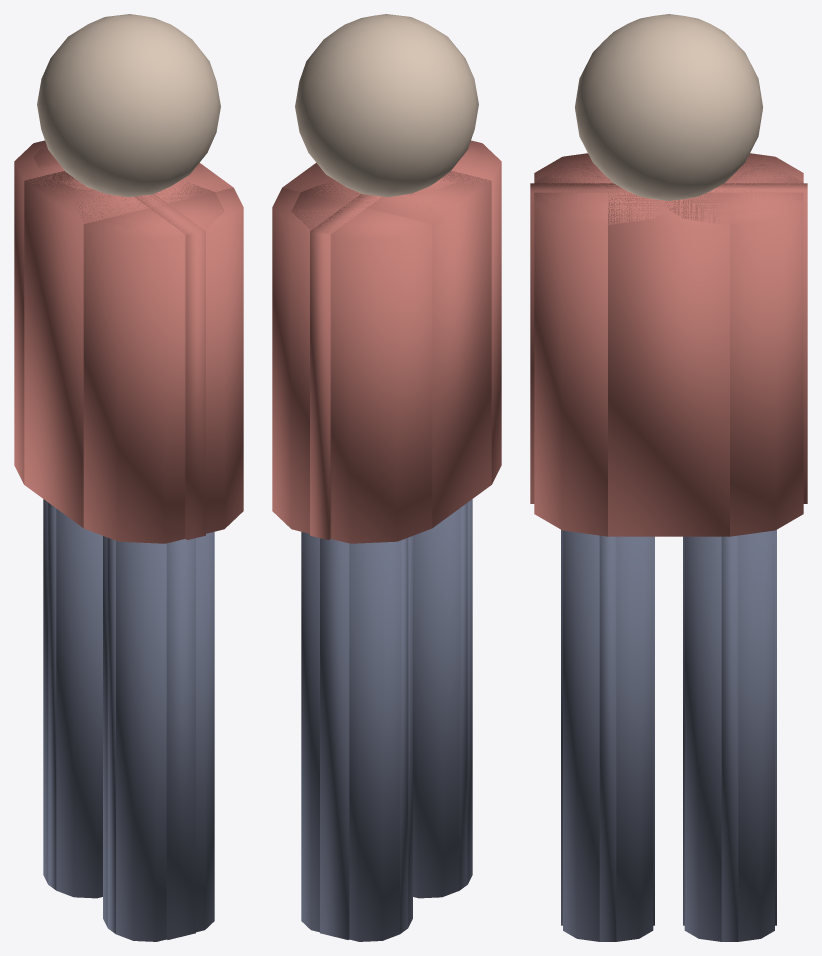
File: person_red.glb
3 renders of one model, left to right at view 1: azimuth 30°, elevation 25°; view 2: azimuth 150°, elevation 25°; view 3: azimuth 270°, elevation 25°, orthographic. The views are drawn at different scales.
Parts seen in each view (by area): view 1: person_red; view 2: person_red; view 3: person_red.
Part boxes in pixels (x1,y1,x2,y2): person_red: (14,14,243,941); person_red: (272,14,501,941); person_red: (530,14,807,941).
Size of the model in its own units: 0.34 by 1.78 by 0.5.
